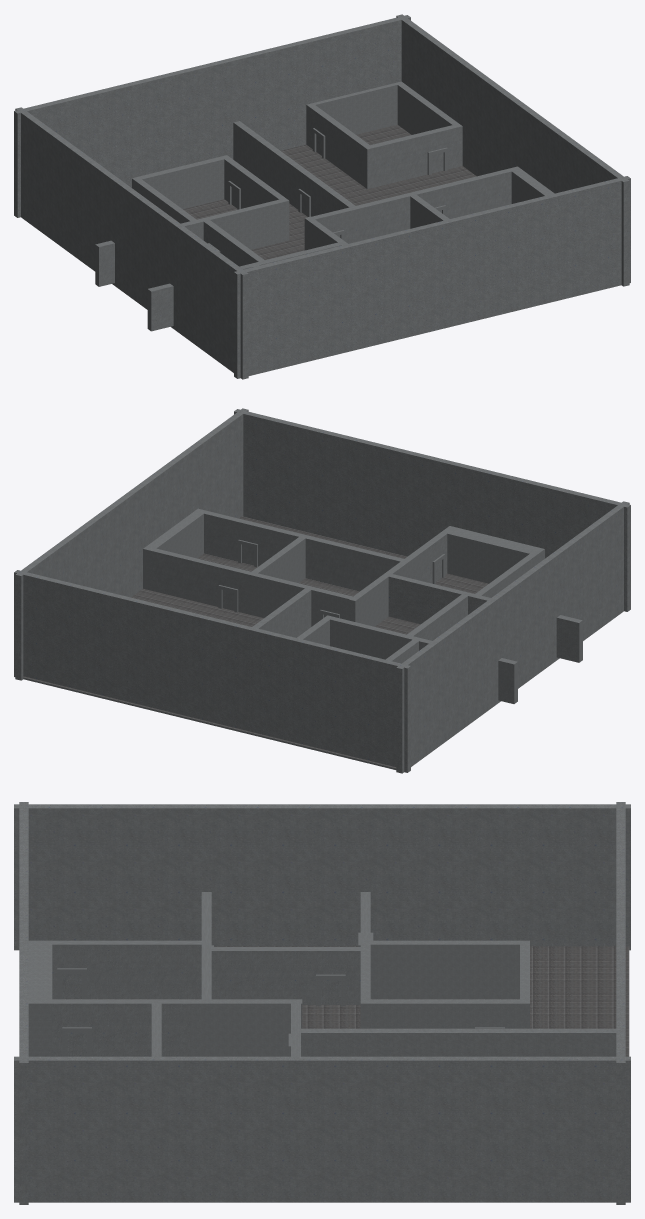
The model's file is GJ Room B.fbx.
3 views of the same model, one above another, from view 1: azimuth 30°, elevation 25°; view 2: azimuth 150°, elevation 25°; view 3: azimuth 270°, elevation 25° (orthographic). The views are drawn at different scales.
Parts seen in each view (by area): view 1: pCube4, pCube1, pCube3, pCube2, Floor, RWall3, RWall1, DoorWall (×2), RWall (×2), LWall (×2), LWall5, DoorWall2 (+12 smaller); view 2: pCube1, pCube4, pCube3, pCube2, Floor, LWall (×2), DoorWall2, RWall4, BWall, BWall1, LWall6, DontMoveRoom2 (+13 smaller); view 3: pCube2, pCube3, Floor, BWall (×2), RWall1, BWall3, DoorWall1, DoorWall4, RWall (×2), DoorWall, pCube4, pCube1 (+10 smaller).
Part boxes in pixels (bbox=[...]): pCube4: bbox=[234, 176, 630, 378]; pCube1: bbox=[14, 15, 410, 217]; pCube3: bbox=[15, 107, 248, 379]; pCube2: bbox=[396, 14, 629, 286]; Floor: bbox=[131, 124, 476, 260]; RWall3: bbox=[363, 123, 462, 189]; RWall1: bbox=[233, 121, 355, 216]; DoorWall (×2): bbox=[224, 158, 410, 243]; RWall (×2): bbox=[132, 155, 347, 250]; LWall (×2): bbox=[191, 192, 449, 249]; LWall5: bbox=[306, 81, 403, 145]; DoorWall2: bbox=[413, 171, 511, 218]; pCube1: bbox=[14, 570, 410, 772]; pCube4: bbox=[234, 409, 630, 611]; pCube3: bbox=[396, 501, 629, 773]; pCube2: bbox=[15, 408, 248, 680]; Floor: bbox=[22, 516, 488, 768]; LWall (×2): bbox=[248, 534, 422, 659]; DoorWall2: bbox=[152, 549, 250, 613]; RWall4: bbox=[388, 574, 582, 662]; BWall: bbox=[305, 536, 403, 591]; BWall1: bbox=[204, 511, 302, 566]; LWall6: bbox=[443, 529, 539, 583]; DontMoveRoom2: bbox=[254, 574, 352, 626]; pCube2: bbox=[14, 1056, 630, 1202]; pCube3: bbox=[14, 804, 630, 950]; Floor: bbox=[52, 946, 629, 1056]; BWall (×2): bbox=[151, 940, 519, 1056]; RWall1: bbox=[301, 1028, 616, 1056]; BWall3: bbox=[52, 940, 201, 998]; DoorWall1: bbox=[211, 947, 360, 1004]; DoorWall4: bbox=[52, 999, 201, 1056]; RWall (×2): bbox=[190, 940, 529, 1056]; DoorWall: bbox=[370, 999, 519, 1028]; pCube4: bbox=[19, 802, 28, 1204]; pCube1: bbox=[616, 802, 625, 1204].
Size of the model in its own units: 650 by 157 by 620.
3 materials, 3 textured.
